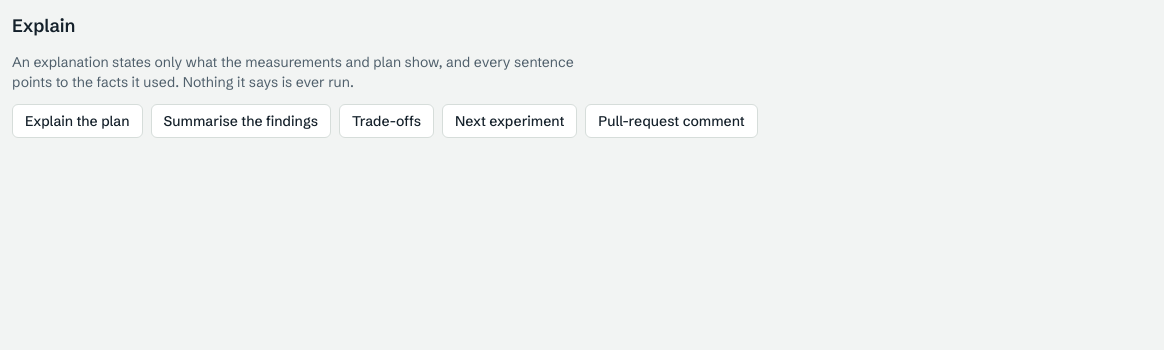
Test: ExplainPanel › asks for the chosen kind and shows a template explanation with its source badge and the facts it used
What coordinates should you click on to do the following:
click the button "Explain the plan"
I would click on:
 (77, 121)
Its box is [12,104,142,138].
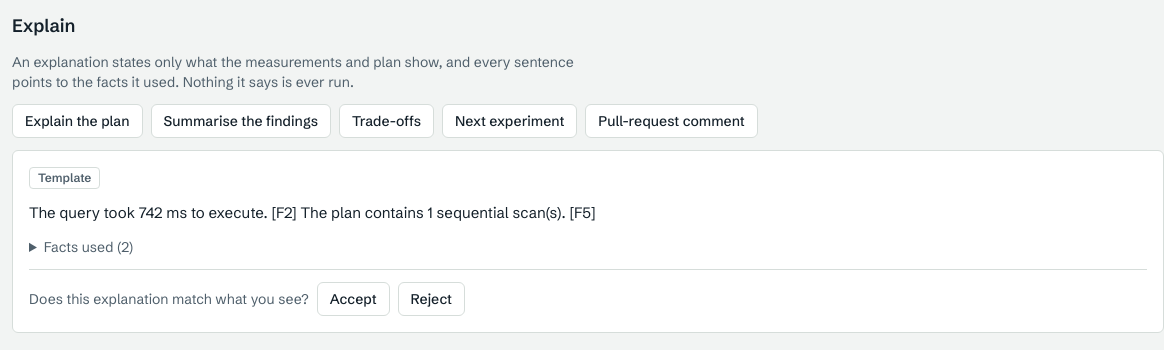
Expected: the text "742 ms to execute. [F2]" is shown, [29,203,596,222]
Expected: the text "Template" is shown, [29,167,100,189]
